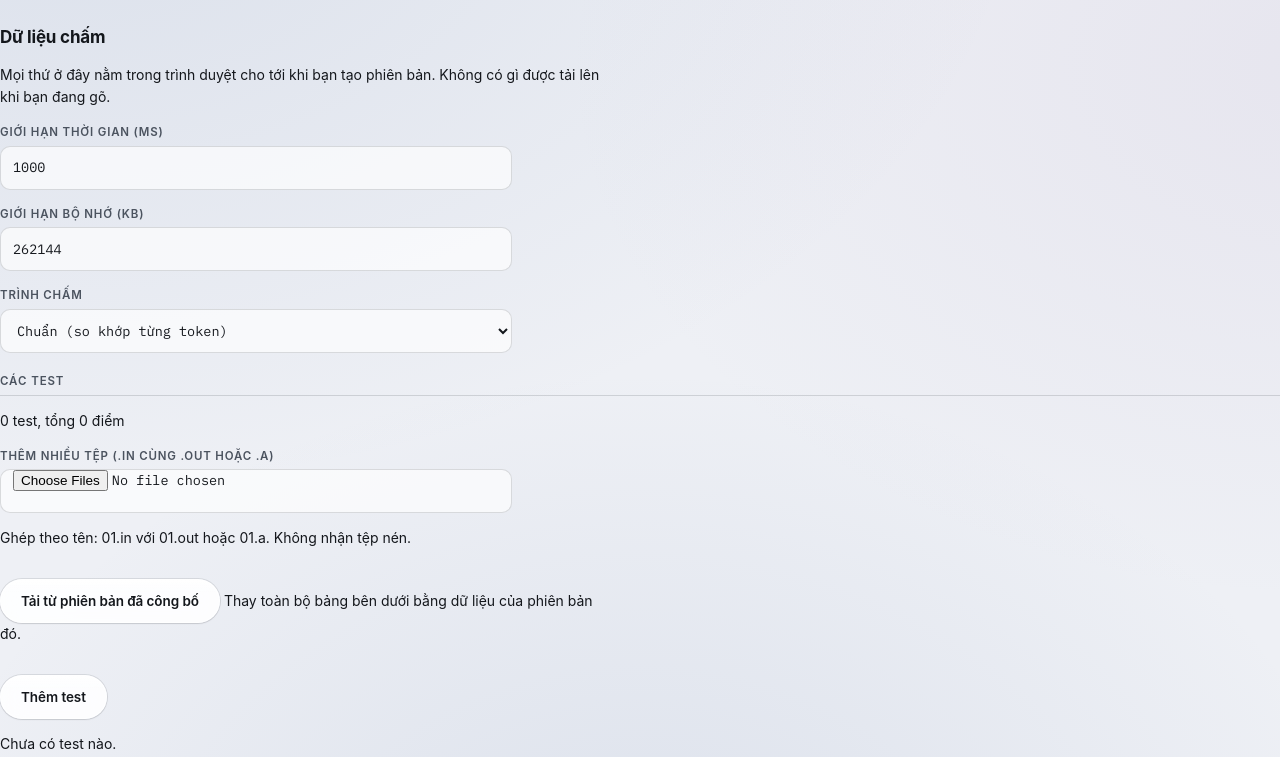
Test case: the test-data tab › gives each per-case file input an accessible name (WCAG 4.1.2)
Click the button "Thêm test": (53, 697) [0,675,107,719]
(page scrolled)
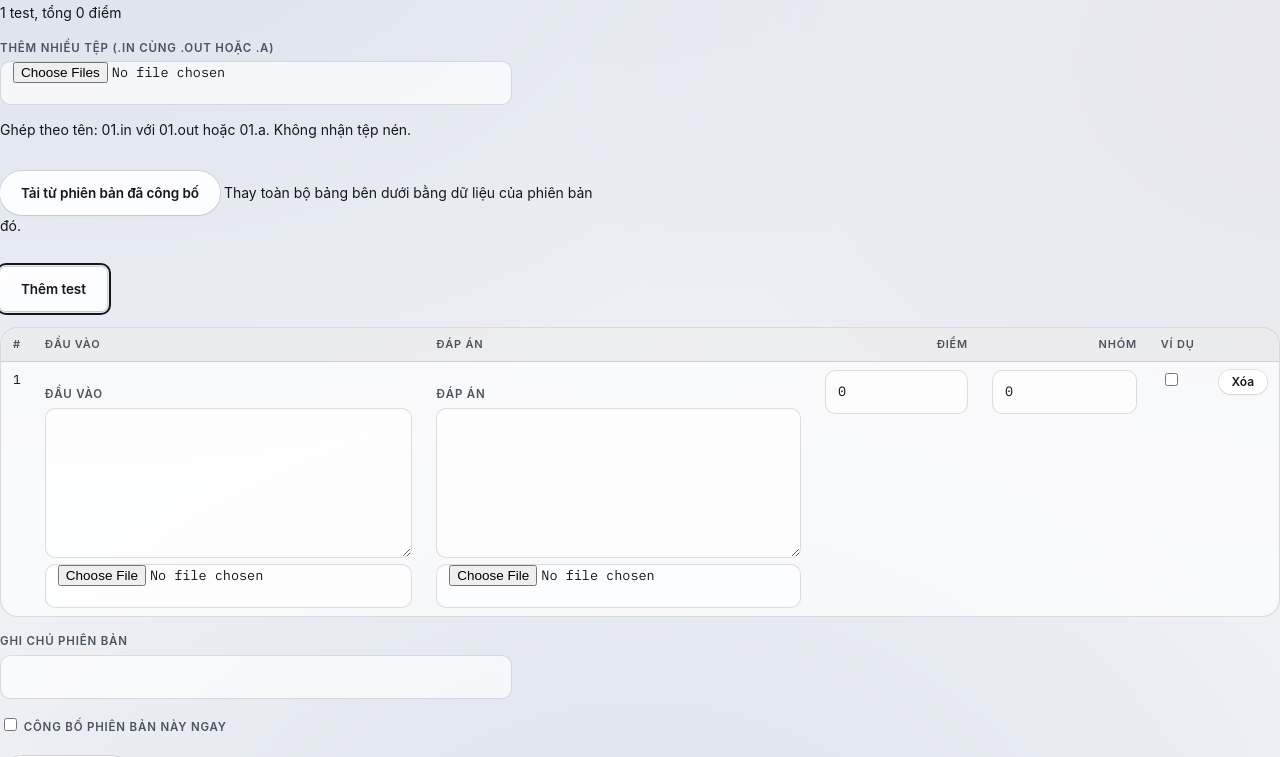
Now the file field named "Tải tệp đầu vào cho test 1" is shown, box [45,564,412,608]
Now the file field named "Tải tệp đáp án cho test 1" is shown, box [436,564,801,608]
